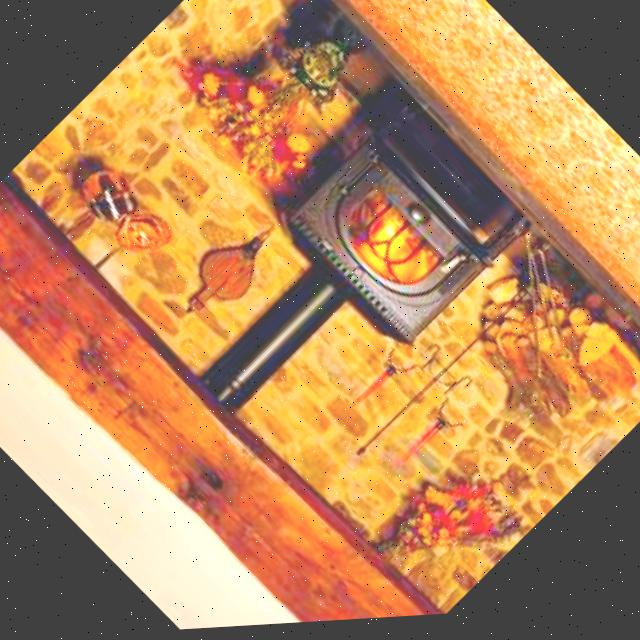Fire: (346, 206, 448, 313)
